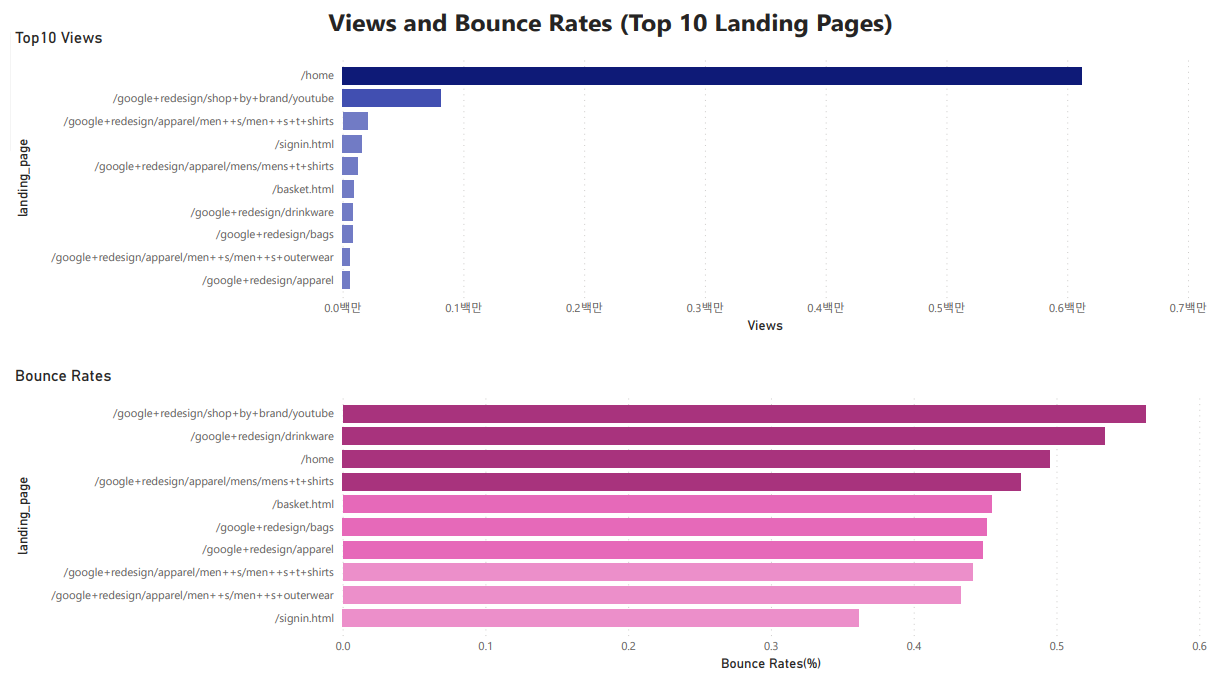

This screenshot's page, from the dashboard's own definition file:
{"tool":"powerbi","page":{"name":"Top 10 Landing Pages","canvas":[1280,720],"ordinal":2},"visuals":[{"type":"clusteredBarChart","title":"Bounce Rates","fields":{"Category":["Top10 Landing pages and Bounce Rate.landing_page"],"Y":["Sum(Top10 Landing pages and Bounce Rate.bounce_rate)"]},"box":[0,390,1280,330],"z":0},{"type":"clusteredBarChart","title":"Top10 Views","fields":{"Category":["Top10 Landing pages and Bounce Rate.landing_page"],"Y":["Sum(Top10 Landing pages and Bounce Rate.views)"]},"box":[0,30,1280,330],"z":1},{"type":"textbox","box":[311.2,0,657.5,50],"z":2}]}

Visuals, with their boxes in screenshot pixels (x1, y1, x2, y2), scaled from the page's 1280x720 canvas onto the 1217x678 screenshot:
"Bounce Rates" clusteredBarChart: l=0, t=367, r=1216, b=677
"Top10 Views" clusteredBarChart: l=0, t=28, r=1216, b=339
textbox: l=296, t=0, r=921, b=47
